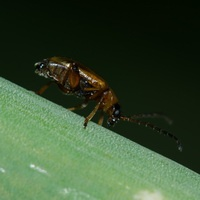insect: (34, 57, 182, 150)
